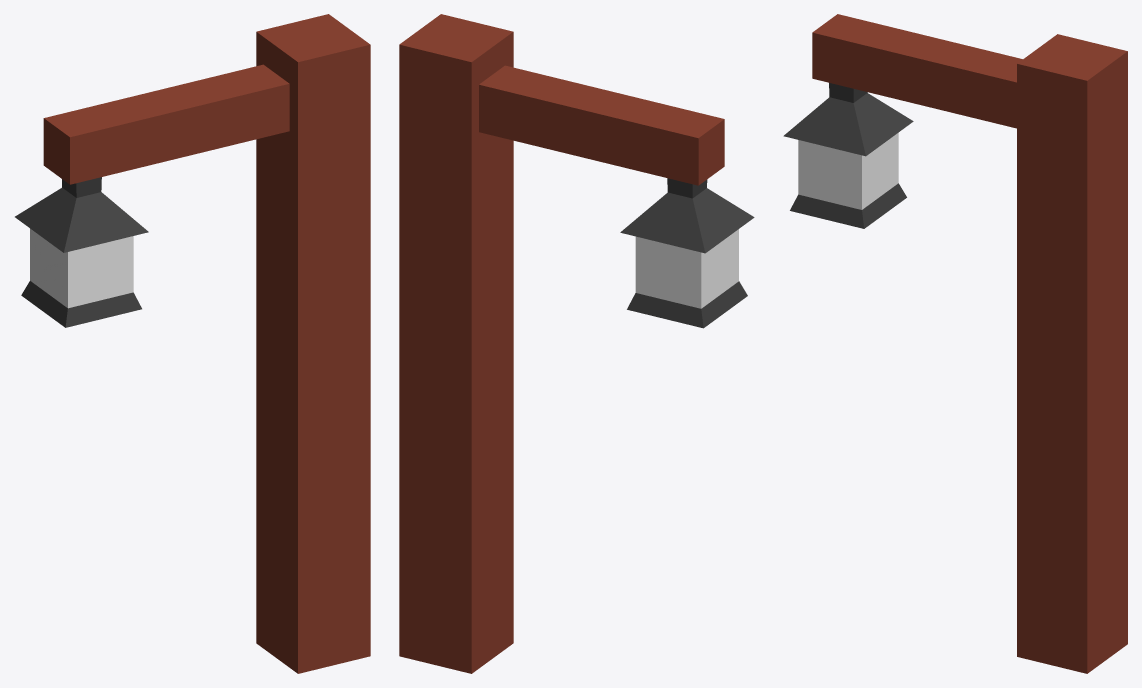
File: streetlamp_1a.fbx
3 renders of one model, left to right at view 1: azimuth 30°, elevation 25°; view 2: azimuth 150°, elevation 25°; view 3: azimuth 330°, elevation 25°, orthographic. The views are drawn at different scales.
Parts seen in each view (by area): view 1: streetlamp_1a; view 2: streetlamp_1a; view 3: streetlamp_1a.
Boxes of the visible parts, x1,y1,x2,y2 form: streetlamp_1a: (15, 14, 370, 673); streetlamp_1a: (399, 14, 754, 673); streetlamp_1a: (783, 14, 1127, 673).
Size of the model in its own units: 109 by 206 by 30.09.
